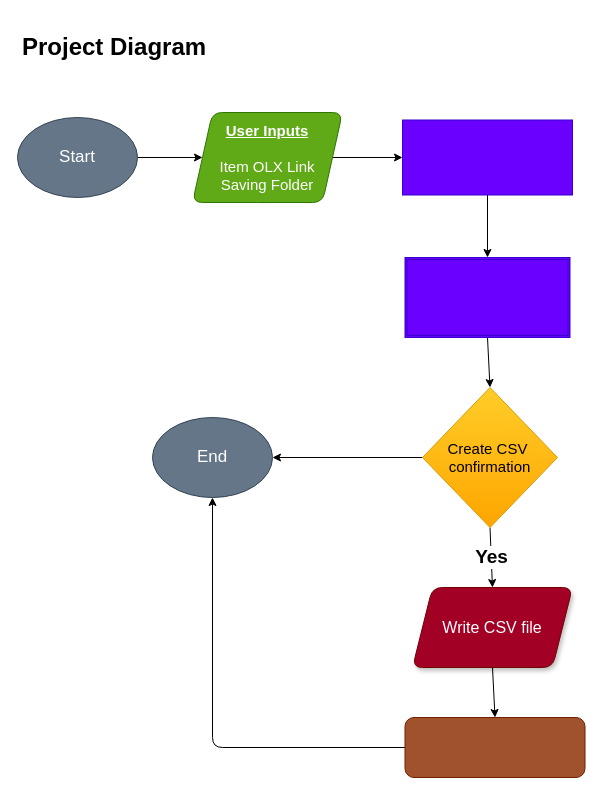
Some shapes in this 603 by 795 pixel diagram are drawn without their labels. Here are the shapes that lost their labels. From the top down, the centre of each, then its label:
pixel 487 157: Fetch items Name Price
pixel 487 297: Calculate Lowest price Average price
pixel 494 747: Save CSV file to folder
